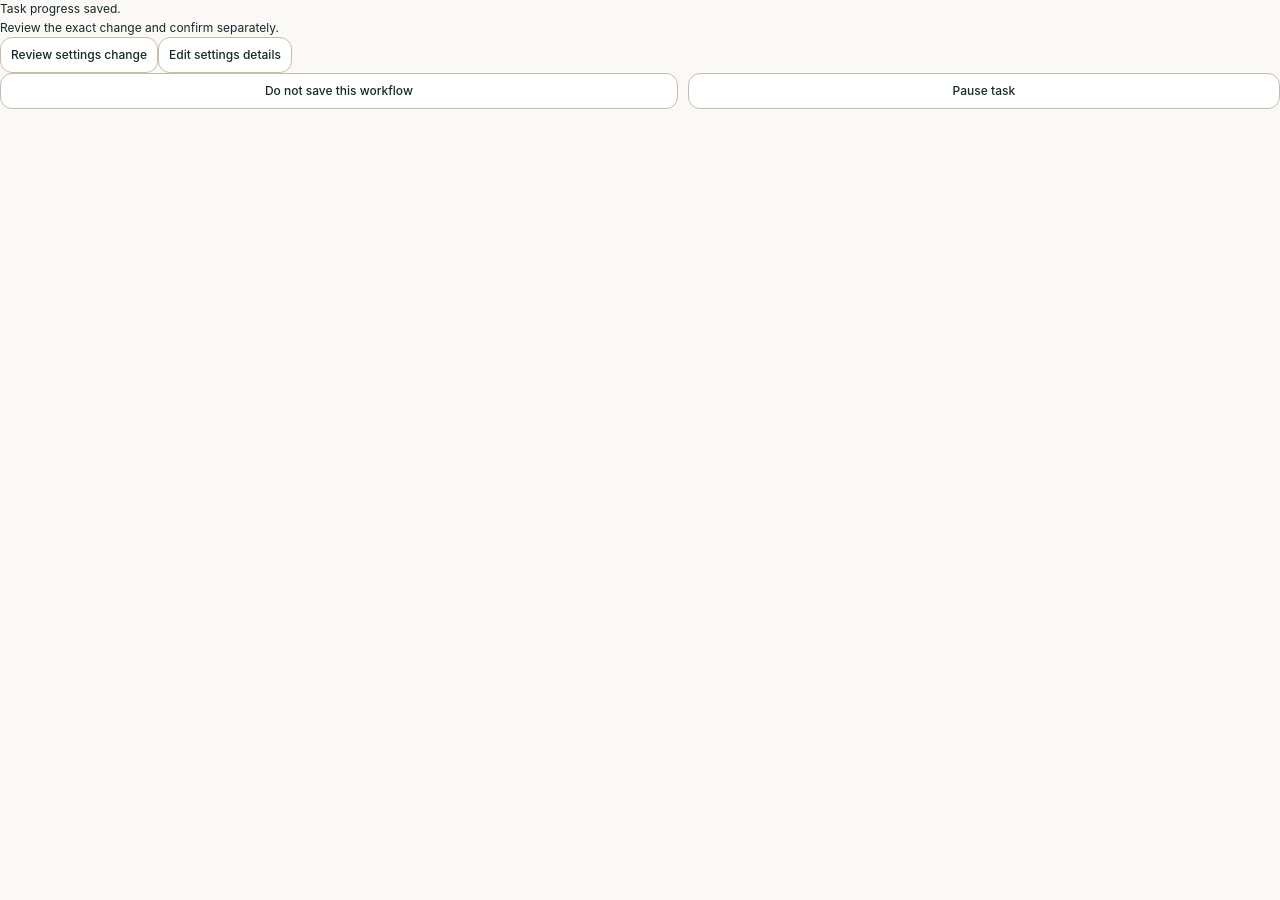
Test: retains a failed native review and requires result checking instead of silently resending
This screenshot has width=1280, height=900.
Click the button "Review settings change" at (79, 55), box [0,37,158,73]
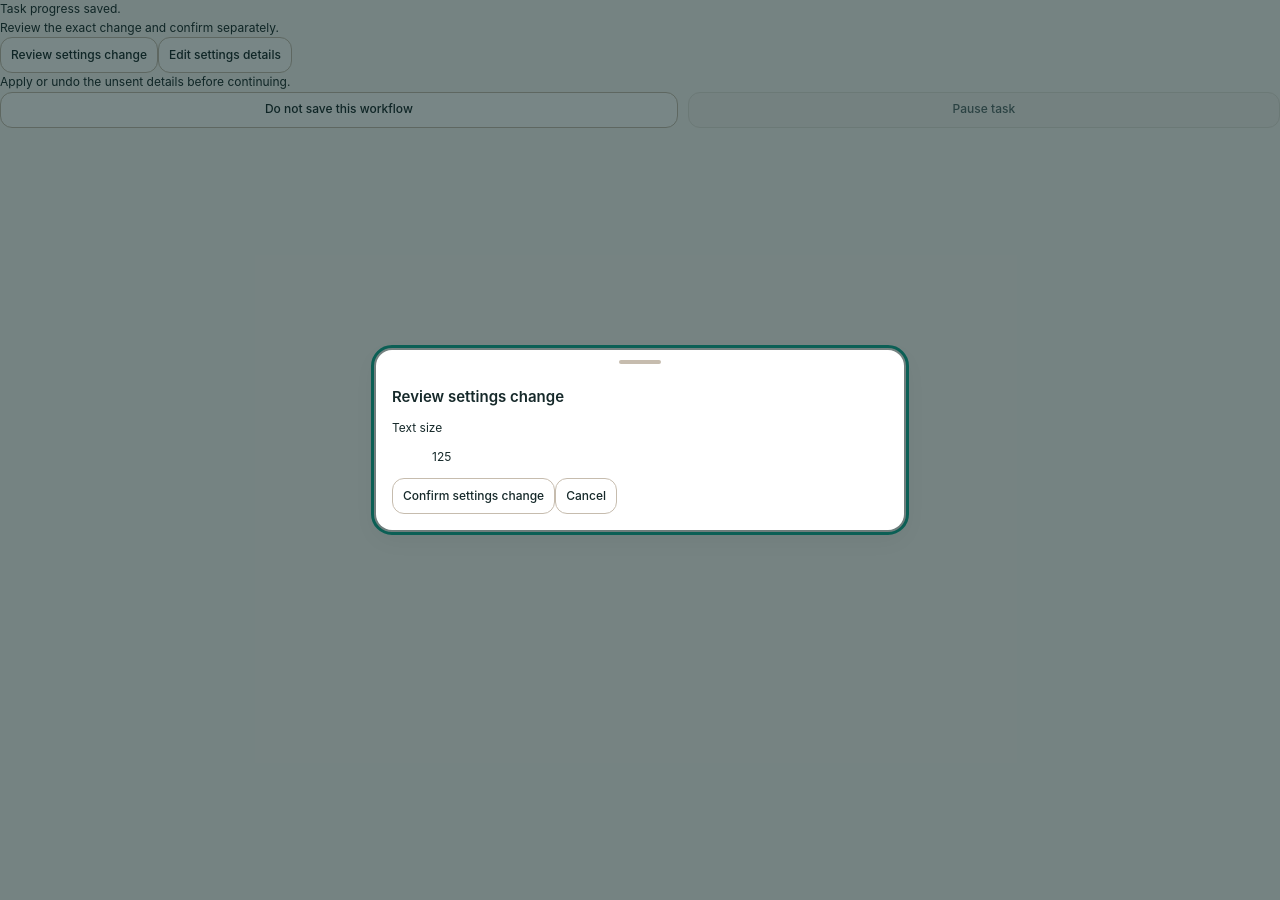
Click the button "Confirm settings change" at (474, 496), box [392,478,555,514]
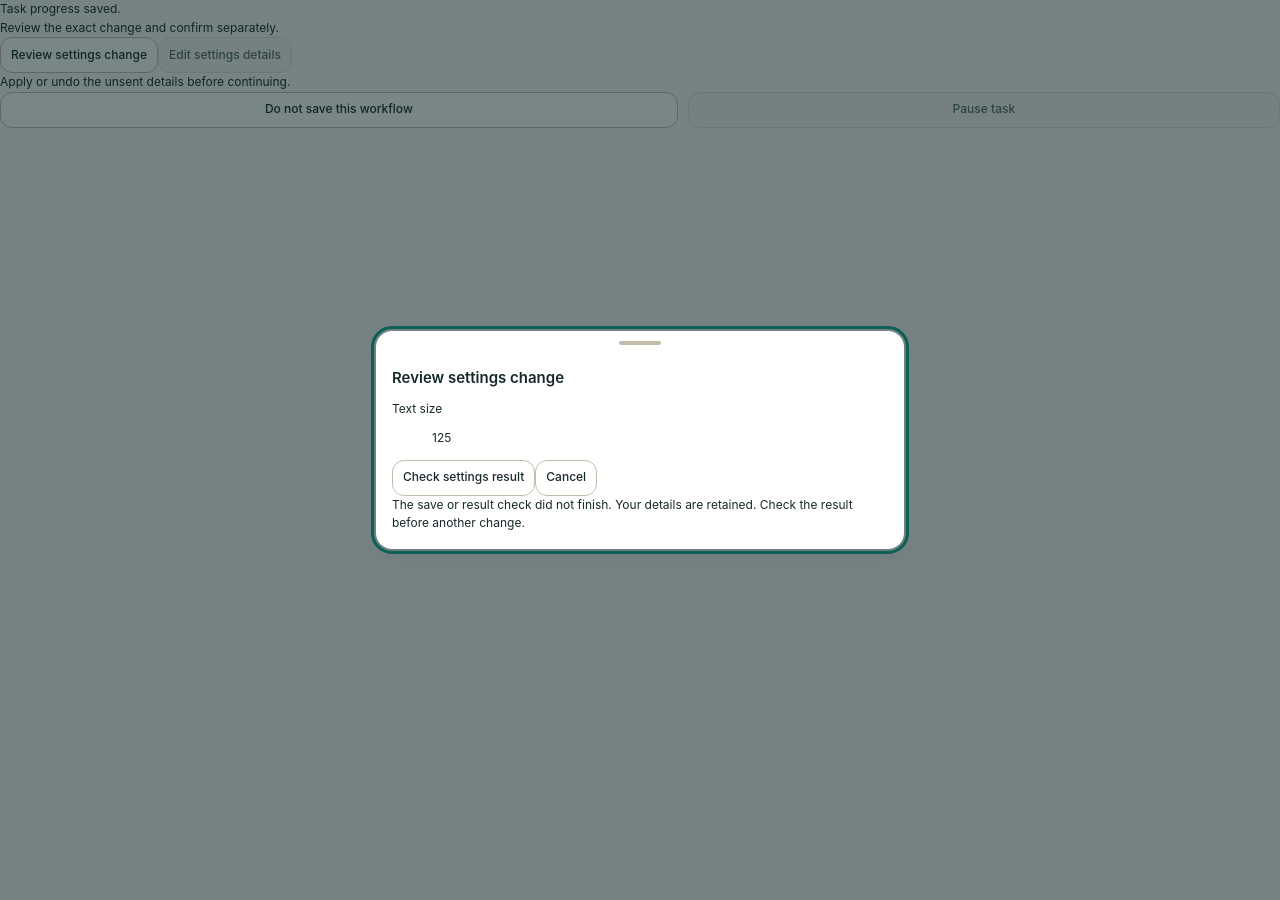
Check: the message is shown, box [392,496,888,533]
Check: the button "Confirm settings change" is gone
Check: the button "Check settings result" is shown, box [392,460,535,496]
